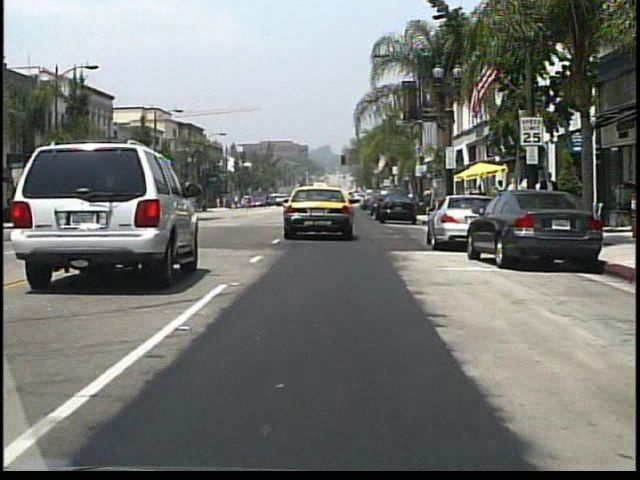person: (536, 170, 561, 235), (508, 176, 524, 214), (536, 176, 550, 216), (494, 179, 507, 217), (519, 179, 533, 214), (263, 192, 271, 207)
